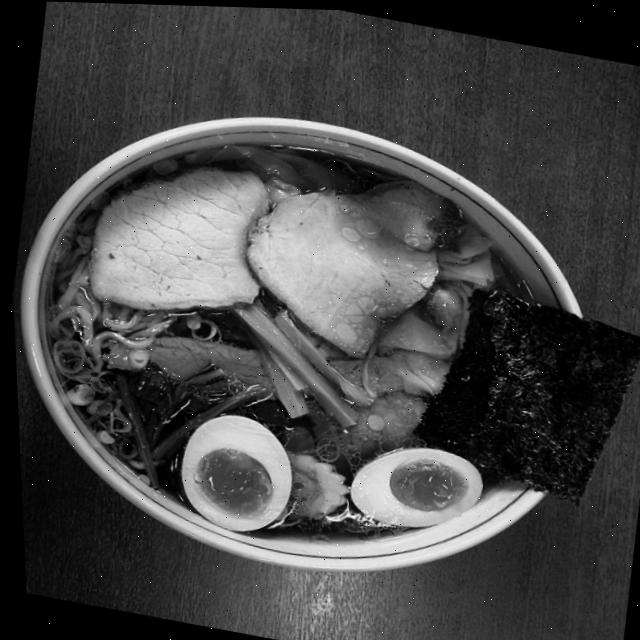面条主食: (2, 66, 614, 616)
